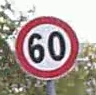limite 60: (13, 15, 79, 80)
